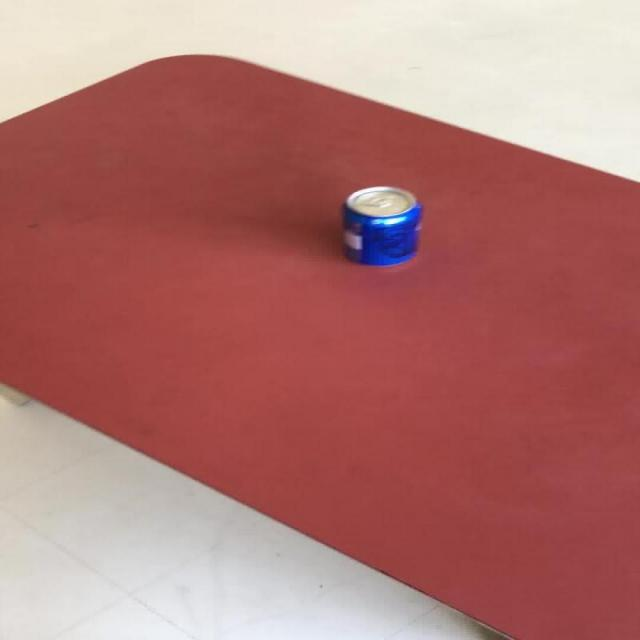Tonic: (340, 184, 423, 266)
